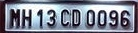character: (10, 7, 20, 28), (21, 8, 32, 26), (119, 9, 130, 27), (108, 8, 118, 27), (60, 8, 70, 26), (71, 8, 81, 26), (86, 8, 95, 27), (46, 9, 56, 26), (97, 9, 106, 26), (36, 8, 43, 27)
